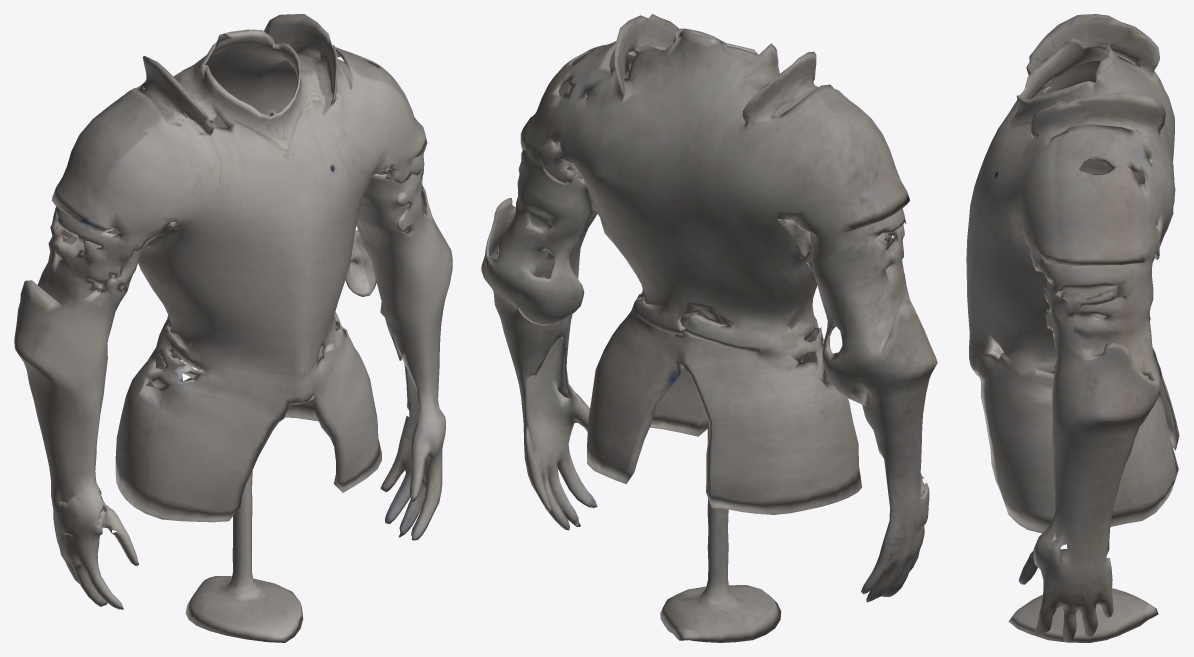
Rendered from Steel Body.glb.
3 renders of one model, left to right at view 1: azimuth 30°, elevation 25°; view 2: azimuth 150°, elevation 25°; view 3: azimuth 270°, elevation 25°, orthographic. The views are drawn at different scales.
Parts seen in each view (by area): view 1: file1; view 2: file1; view 3: file1.
Boxes of the visible parts, bbox=[...] form: file1: bbox=[14, 14, 452, 642]; file1: bbox=[481, 14, 937, 642]; file1: bbox=[966, 14, 1179, 642].
Size of the model in its own units: 1.57 by 2 by 0.6741.
Materials: 1 (1 with a texture image).
